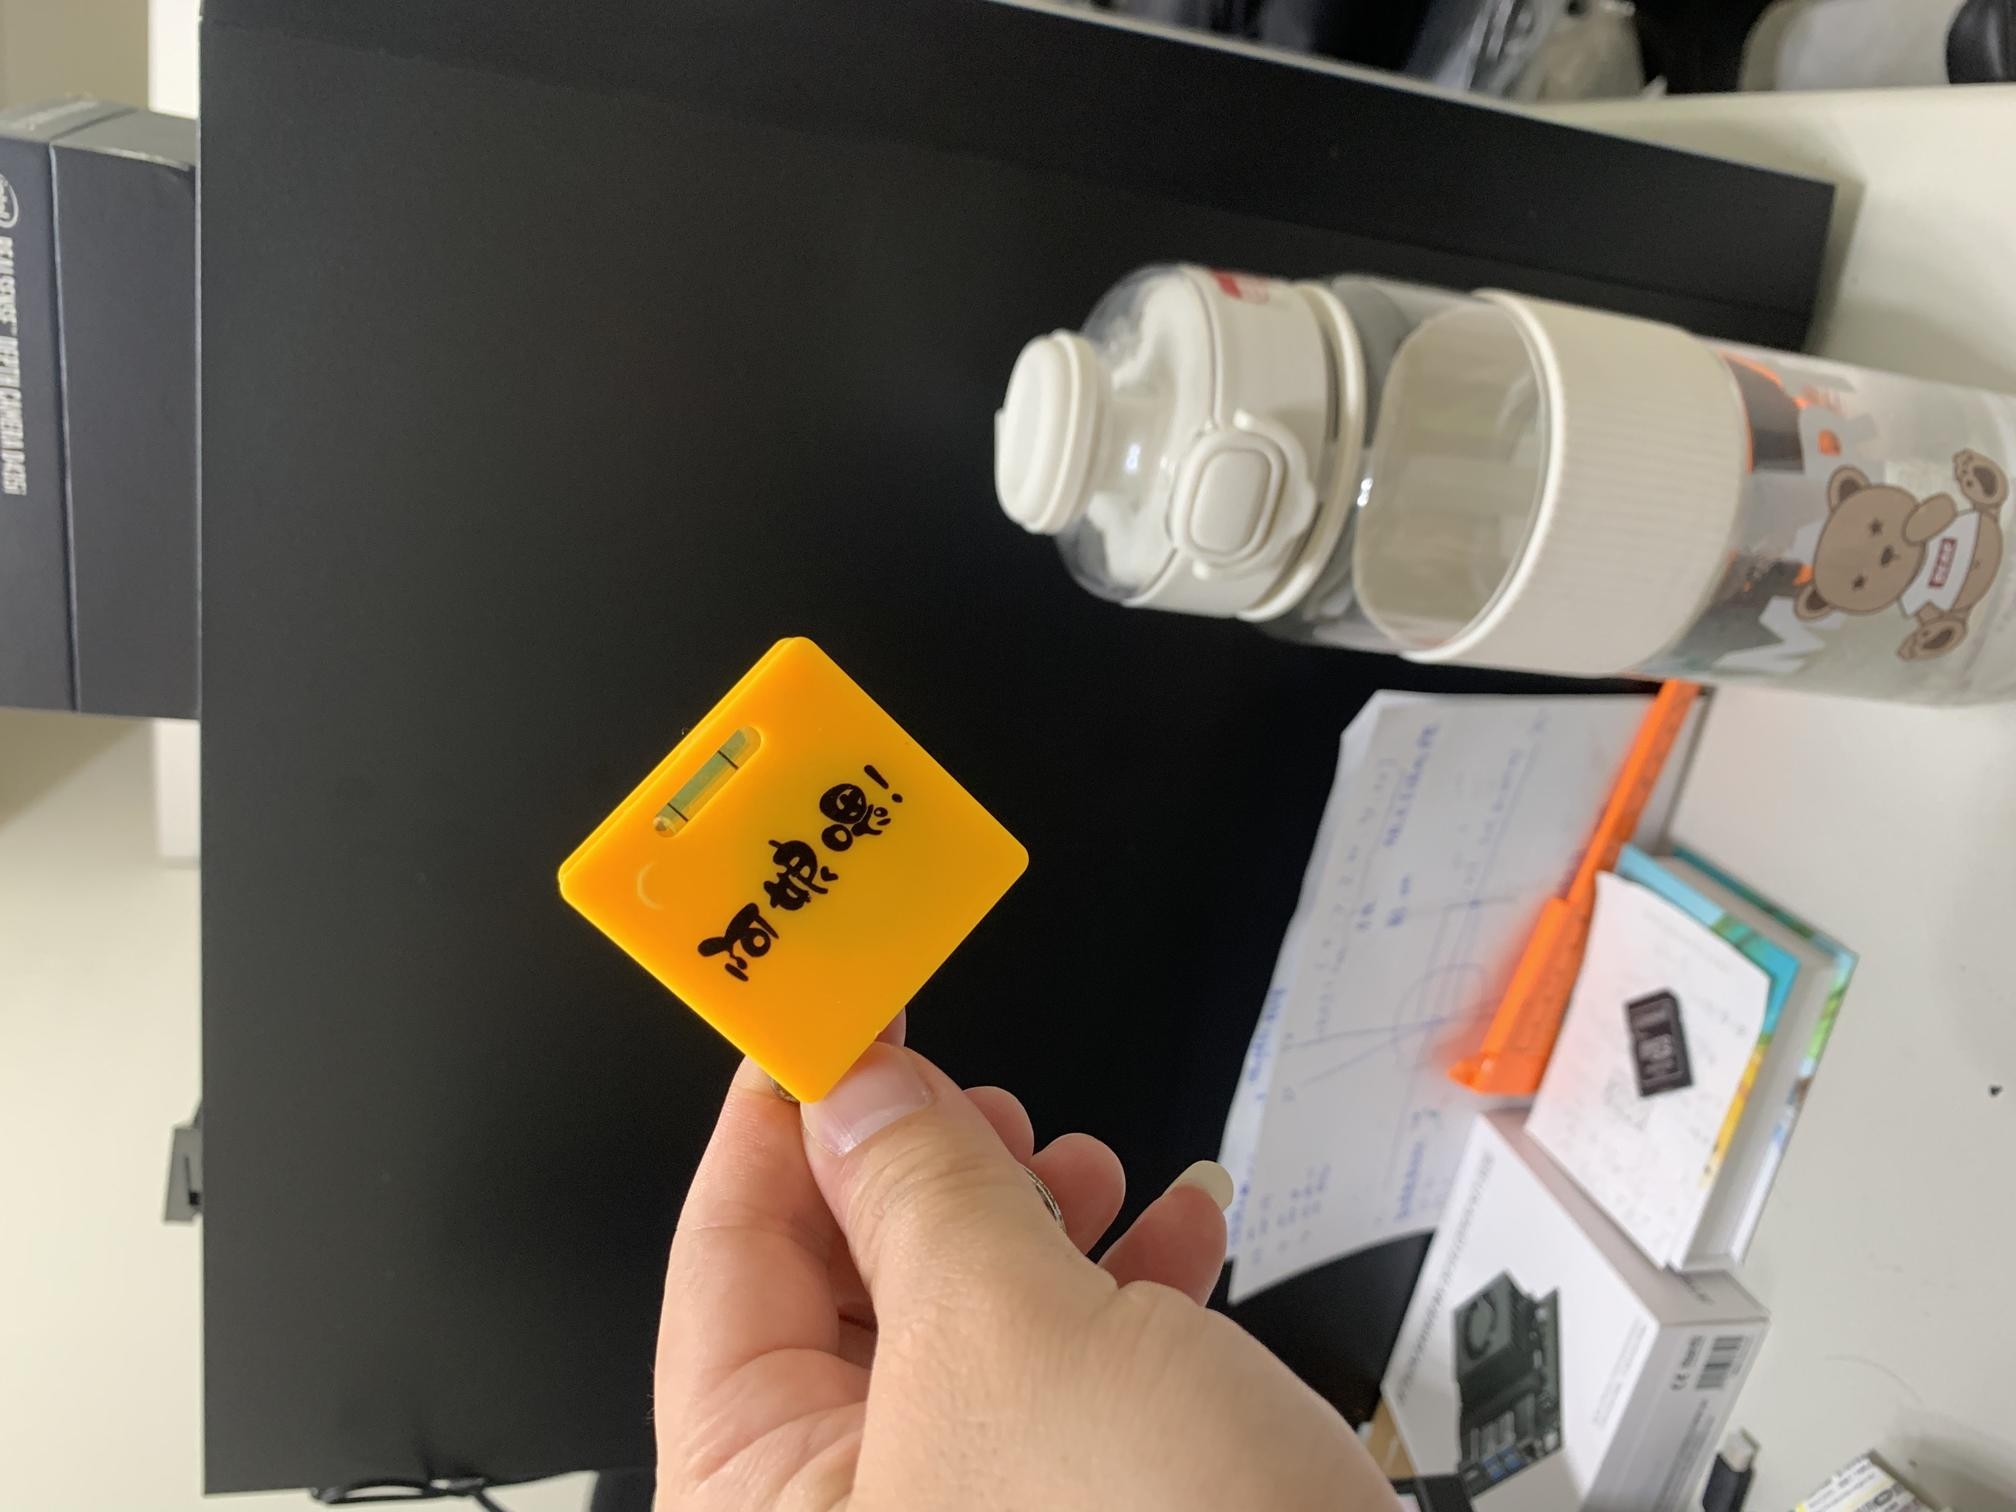Laio: (512, 625, 1044, 1106)
